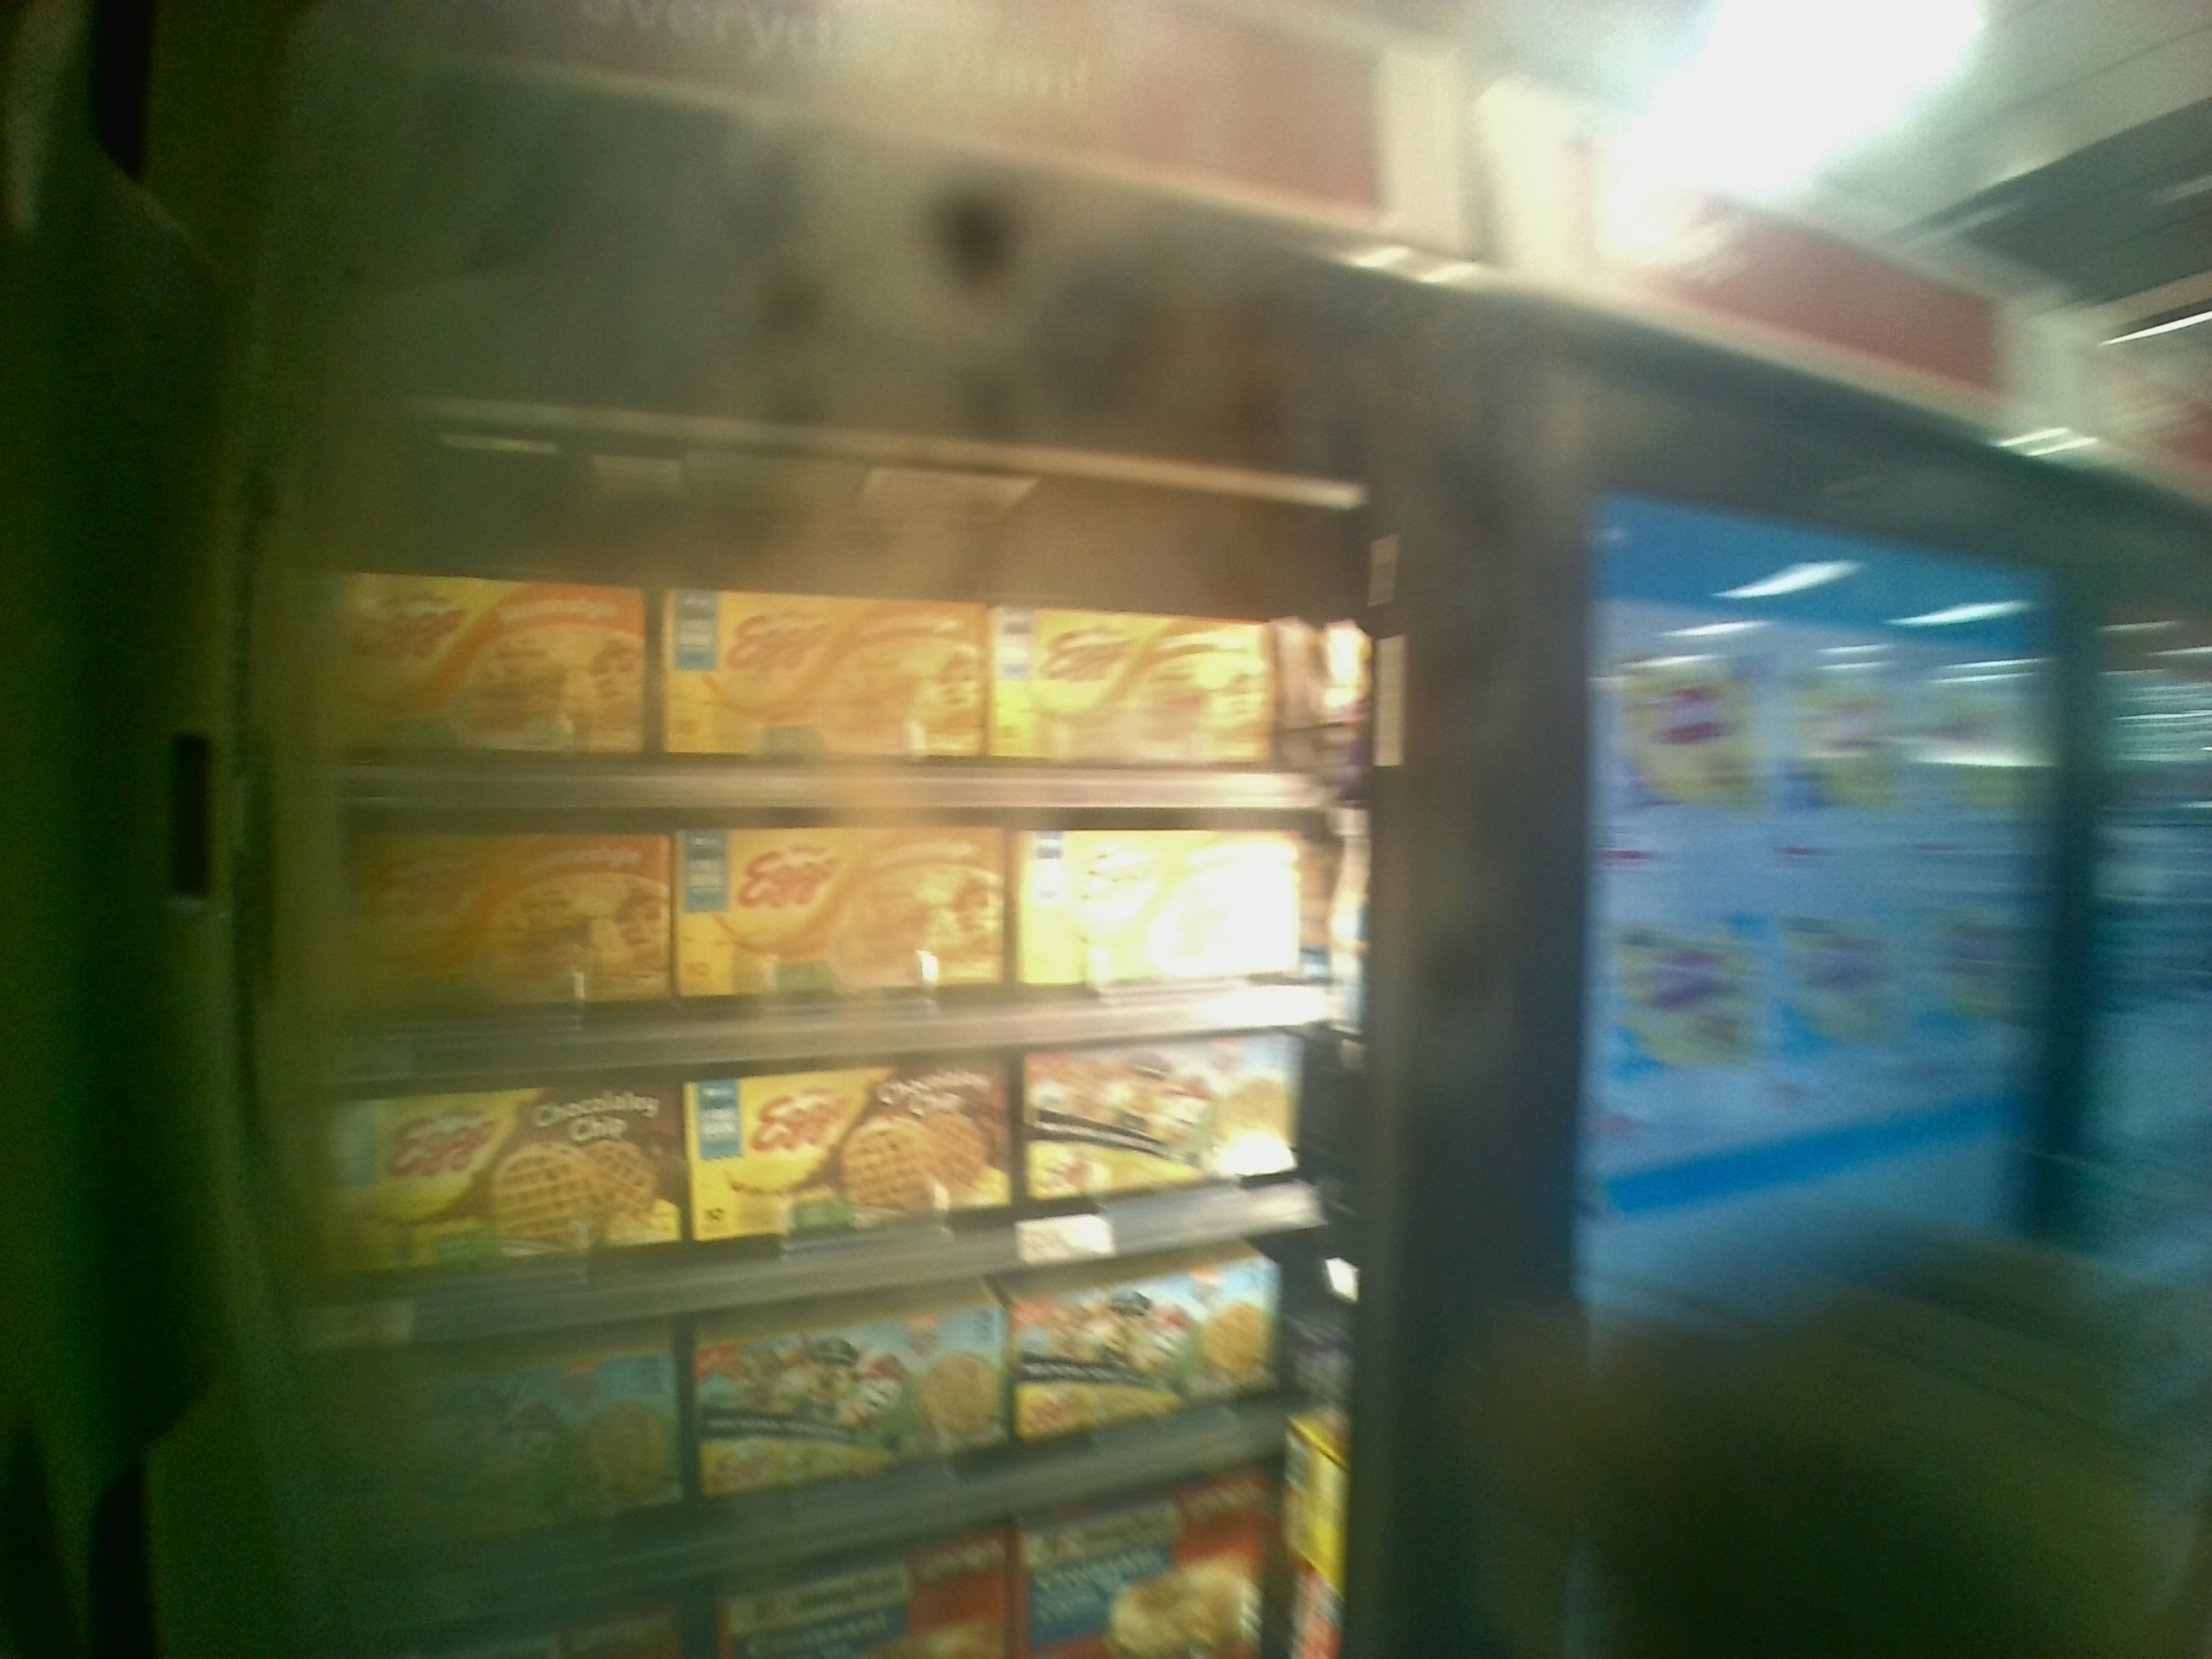shelf: (303, 486, 1350, 814), (310, 1023, 1348, 1328), (310, 809, 1359, 1080)
